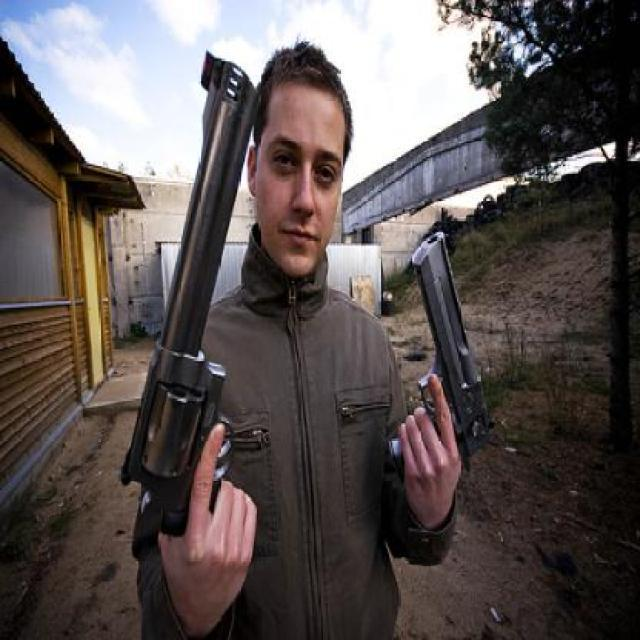gun: (116, 51, 258, 546), (394, 227, 494, 486)
